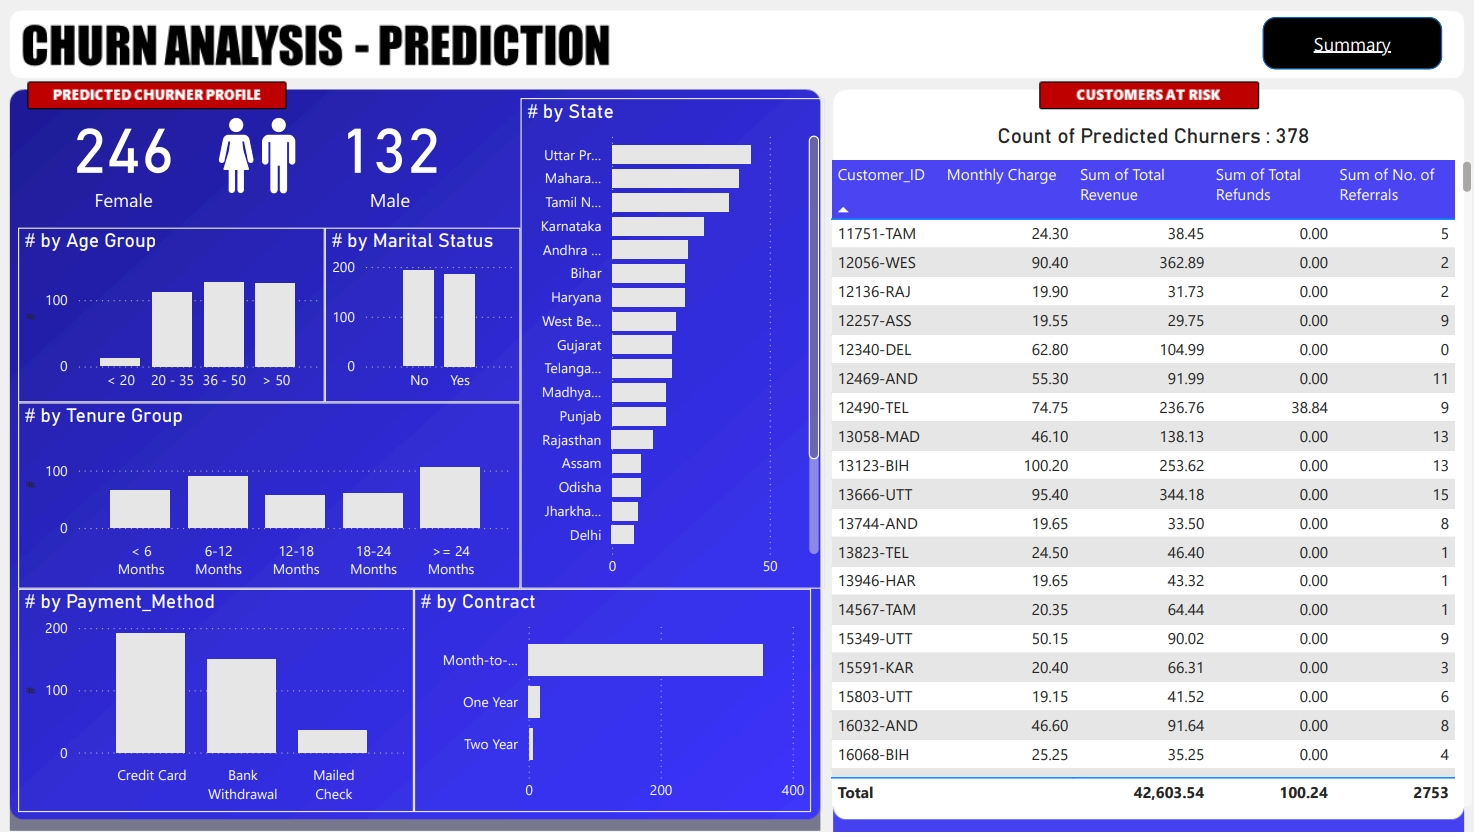

Layout of this report page (visuals, bound fields, positions):
{"tool":"powerbi","page":{"name":"Churn Prediction","canvas":[1280,720],"ordinal":2},"visuals":[{"type":"tableEx","fields":{"Values":["Prediction.Customer_ID","Prediction.Monthly_Charge","Prediction.Total_Revenue","Prediction.Total_Refunds","Prediction.Number_of_Referrals"]},"box":[720.7,141.8,537.2,555.1],"z":0},{"type":"card","fields":{"Values":["tbl_Measures.Title Predicted Churner"]},"box":[819.2,98.5,341.7,43.3],"z":1},{"type":"card","fields":{"Values":["tbl_Measures.Count Predicted Churner"]},"box":[16.4,110.4,114.9,116.4],"z":2},{"type":"card","fields":{"Values":["tbl_Measures.Count Predicted Churner"]},"box":[228.3,104.5,119.4,128.3],"z":3},{"type":"clusteredColumnChart","fields":{"Category":["mapping_AgeGrp.Age Group"],"Y":["CountNonNull(Prediction.Customer_ID)"]},"box":[16.4,238.8,185,141.8],"z":4},{"type":"clusteredColumnChart","fields":{"Category":["Prediction.Married"],"Y":["CountNonNull(Prediction.Customer_ID)"]},"box":[201.4,238.8,146.2,141.8],"z":5},{"type":"clusteredColumnChart","fields":{"Y":["CountNonNull(Prediction.Customer_ID)"],"Category":["mapping_TenureGrp.Tenure Group"]},"box":[16.4,380.5,331.3,147.7],"z":6},{"type":"clusteredColumnChart","fields":{"Y":["CountNonNull(Prediction.Customer_ID)"],"Category":["Prediction.Payment_Method"]},"box":[16.4,528.2,331.3,168.6],"z":7},{"type":"clusteredBarChart","fields":{"Category":["Prediction.Contract"],"Y":["CountNonNull(Prediction.Customer_ID)"]},"box":[347.7,490.9,349.2,205.9],"z":8},{"type":"clusteredBarChart","fields":{"Category":["Prediction.State"],"Y":["tbl_Measures.Count Predicted Churner"]},"box":[349.2,95.5,347.7,395.4],"z":9},{"type":"image","box":[131.3,108.9,97,128.3],"z":10},{"type":"shape","box":[1035.6,14.9,204.4,47.8],"z":11}]}

Visuals, with their boxes in screenshot pixels (x1, y1, x2, y2), scaled from the page's 1280x720 canvas onto the 1474x837 screenshot:
tableEx - Prediction.Customer_ID x Prediction.Monthly_Charge: x1=830 y1=165 x2=1449 y2=810
card - tbl_Measures.Title Predicted Churner: x1=943 y1=115 x2=1337 y2=165
card - tbl_Measures.Count Predicted Churner: x1=19 y1=128 x2=151 y2=264
card - tbl_Measures.Count Predicted Churner: x1=263 y1=121 x2=400 y2=271
clusteredColumnChart - mapping_AgeGrp.Age Group x CountNonNull(Prediction.Customer_ID): x1=19 y1=278 x2=232 y2=442
clusteredColumnChart - Prediction.Married x CountNonNull(Prediction.Customer_ID): x1=232 y1=278 x2=400 y2=442
clusteredColumnChart - CountNonNull(Prediction.Customer_ID) x mapping_TenureGrp.Tenure Group: x1=19 y1=442 x2=400 y2=614
clusteredColumnChart - CountNonNull(Prediction.Customer_ID) x Prediction.Payment_Method: x1=19 y1=614 x2=400 y2=810
clusteredBarChart - Prediction.Contract x CountNonNull(Prediction.Customer_ID): x1=400 y1=571 x2=803 y2=810
clusteredBarChart - Prediction.State x tbl_Measures.Count Predicted Churner: x1=402 y1=111 x2=803 y2=571
image: x1=151 y1=127 x2=263 y2=276
shape: x1=1193 y1=17 x2=1428 y2=73
